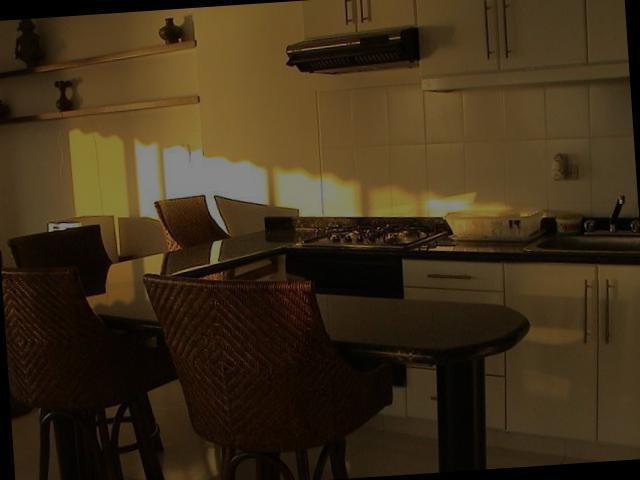Lavaplatos: (530, 202, 638, 269)
